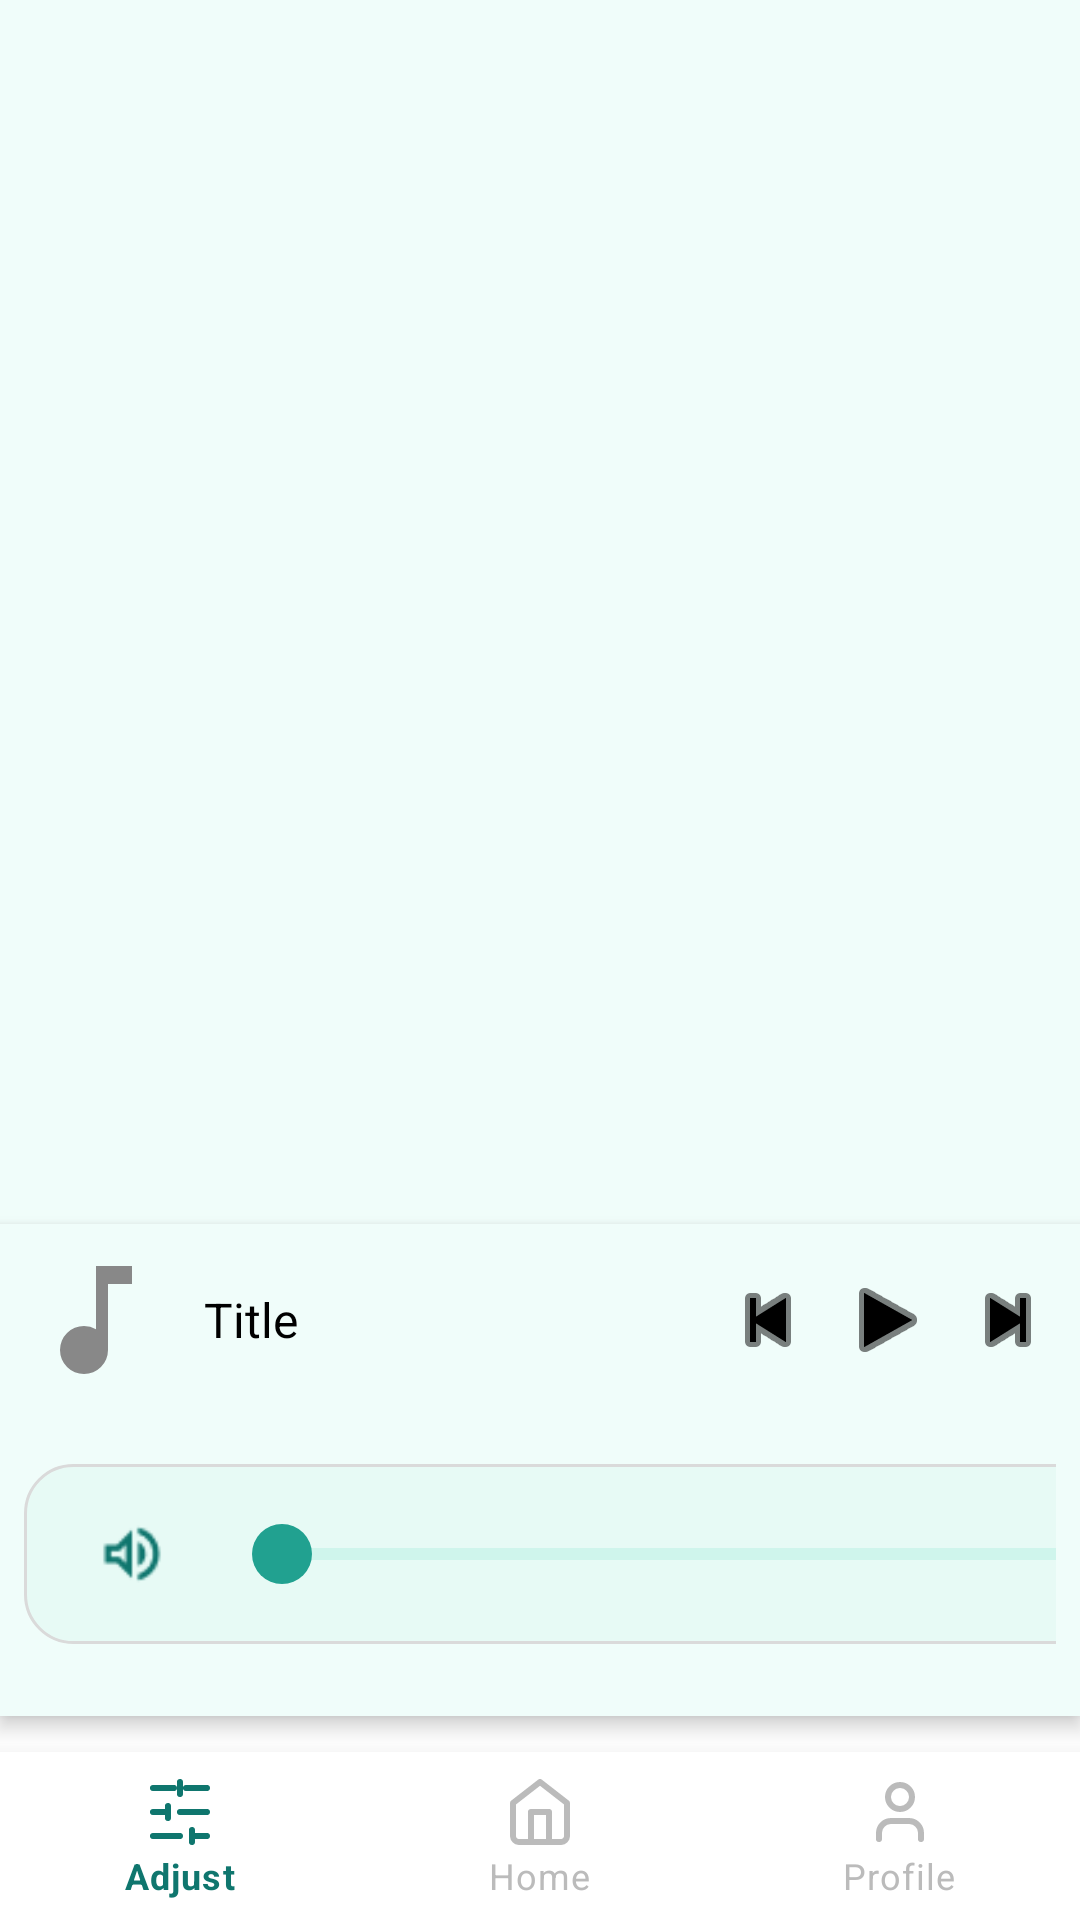

Icons on this 1080*1920 Android screen, each with the point to tap as (x,y):
next: (1008,1320)
play: (888,1320)
previous: (768,1320)
volume: (132,1554)
